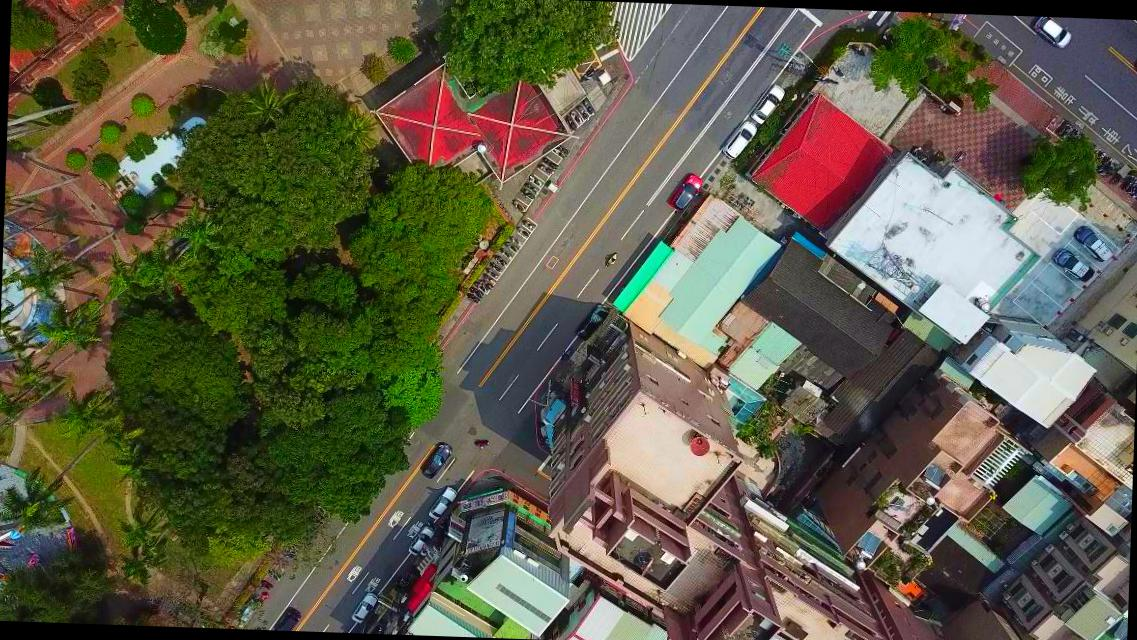vehicle: (1072, 225, 1114, 263), (1050, 248, 1096, 282), (749, 82, 784, 126), (1030, 16, 1073, 51), (720, 120, 757, 160), (574, 303, 610, 342), (669, 172, 703, 212), (419, 441, 452, 481), (427, 484, 458, 521), (350, 592, 378, 626), (406, 524, 434, 556), (271, 607, 302, 630), (1132, 54, 1136, 82)
